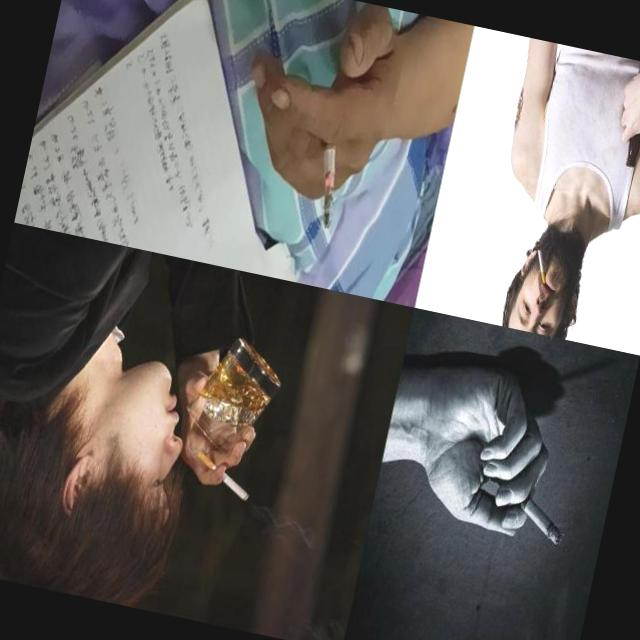cigarette: (304, 123, 349, 226), (501, 482, 572, 546), (188, 448, 258, 502), (529, 246, 553, 286)
